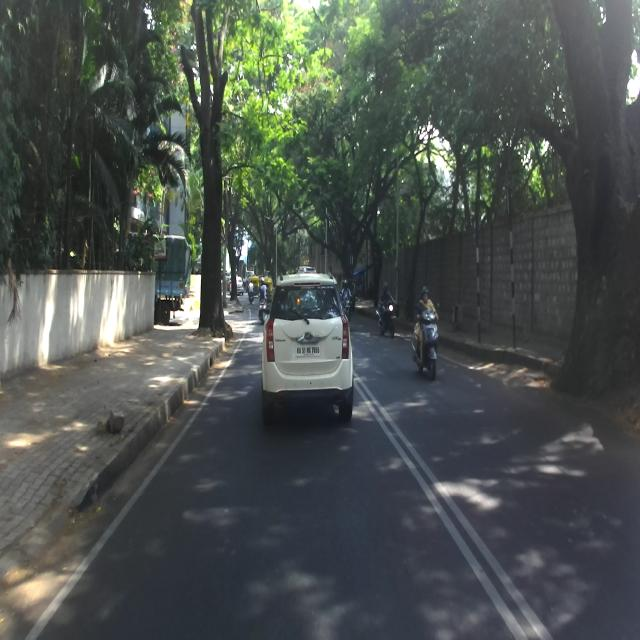car ahead at: (265, 265, 355, 423)
motorcycle ahead at: (410, 302, 443, 382)
tree ahead at: (189, 56, 227, 333)
